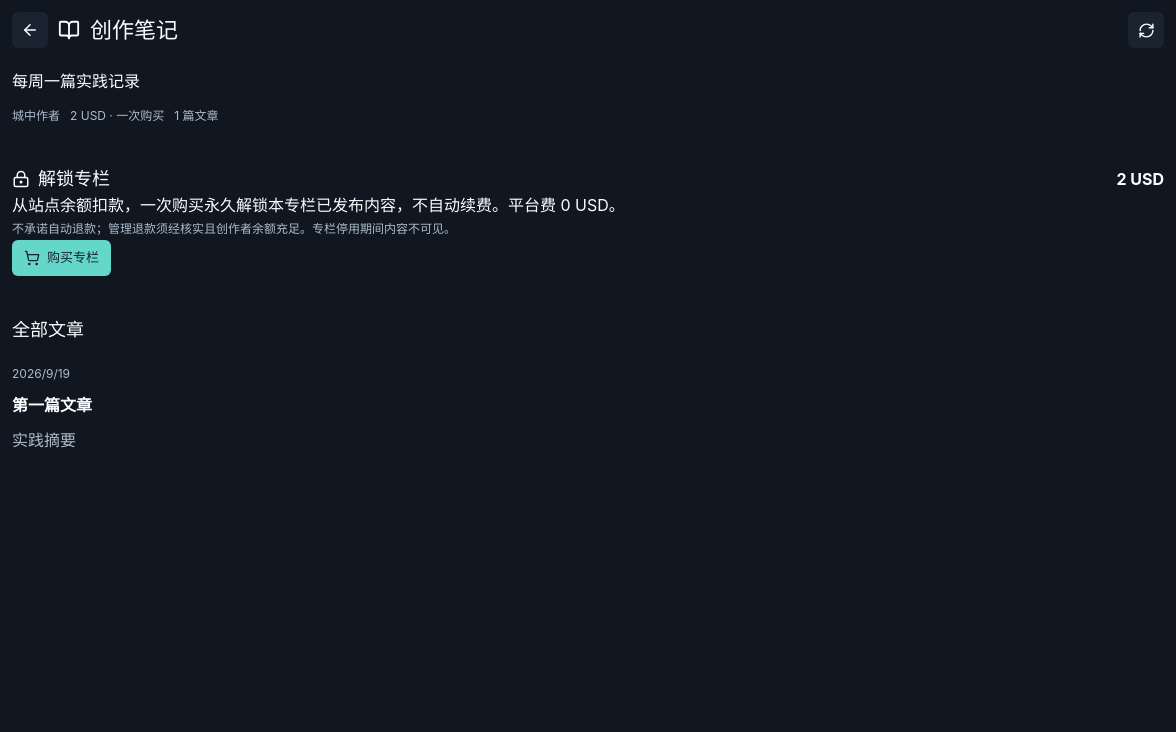
Test: creator columns › confirms the price and reuses an operation id after an uncertain purchase
This screenshot has width=1176, height=732.
Click the button "购买专栏": {"x": 62, "y": 258} [12,240,111,276]
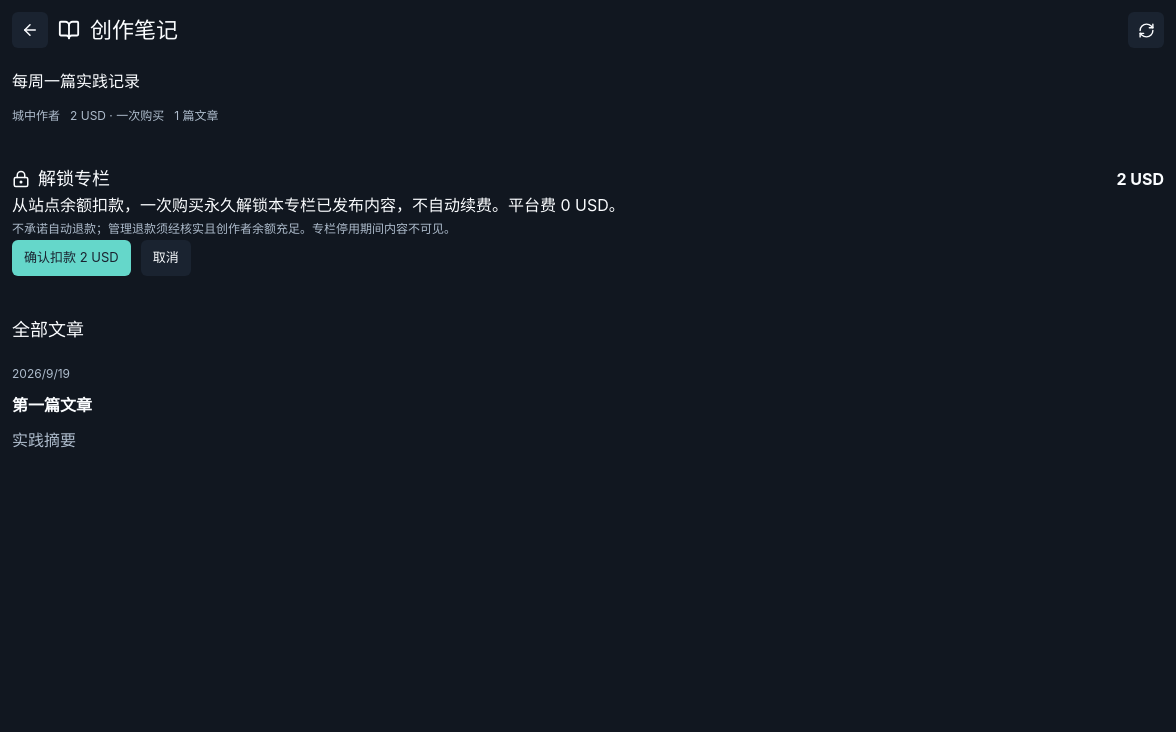
Click the button "确认扣款 2 USD": {"x": 71, "y": 258} [12,240,131,276]
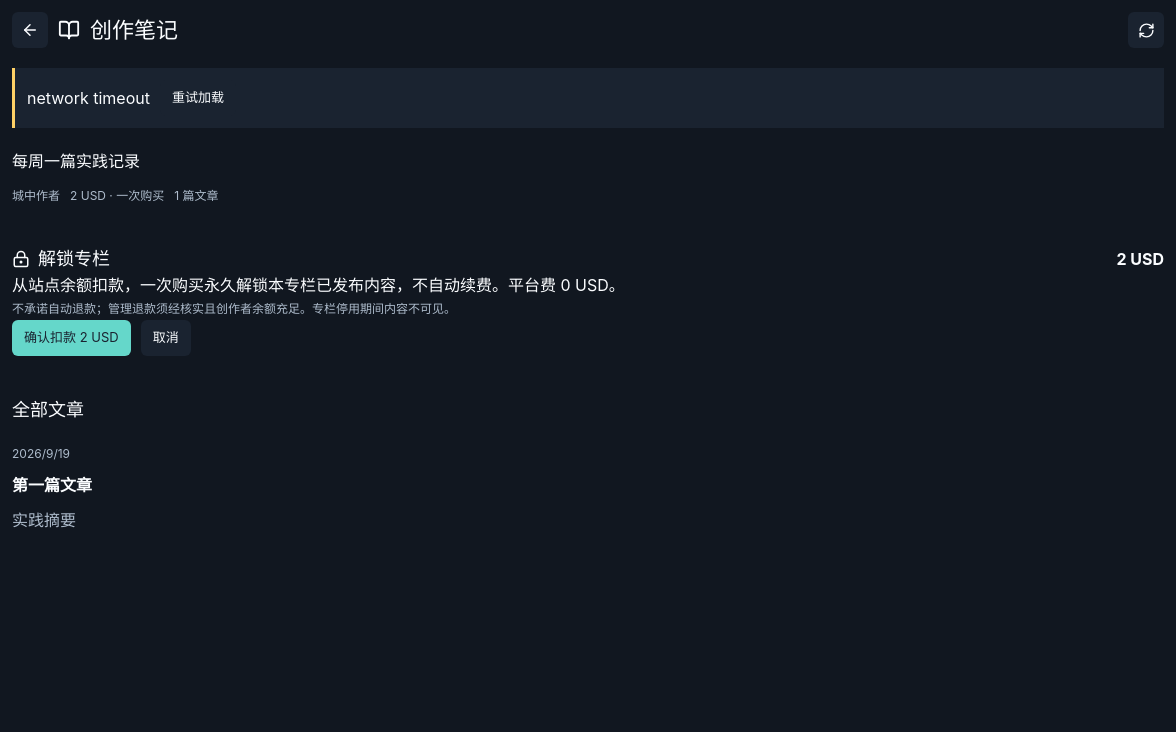
Click the button "确认扣款 2 USD": {"x": 71, "y": 338} [12,320,131,356]
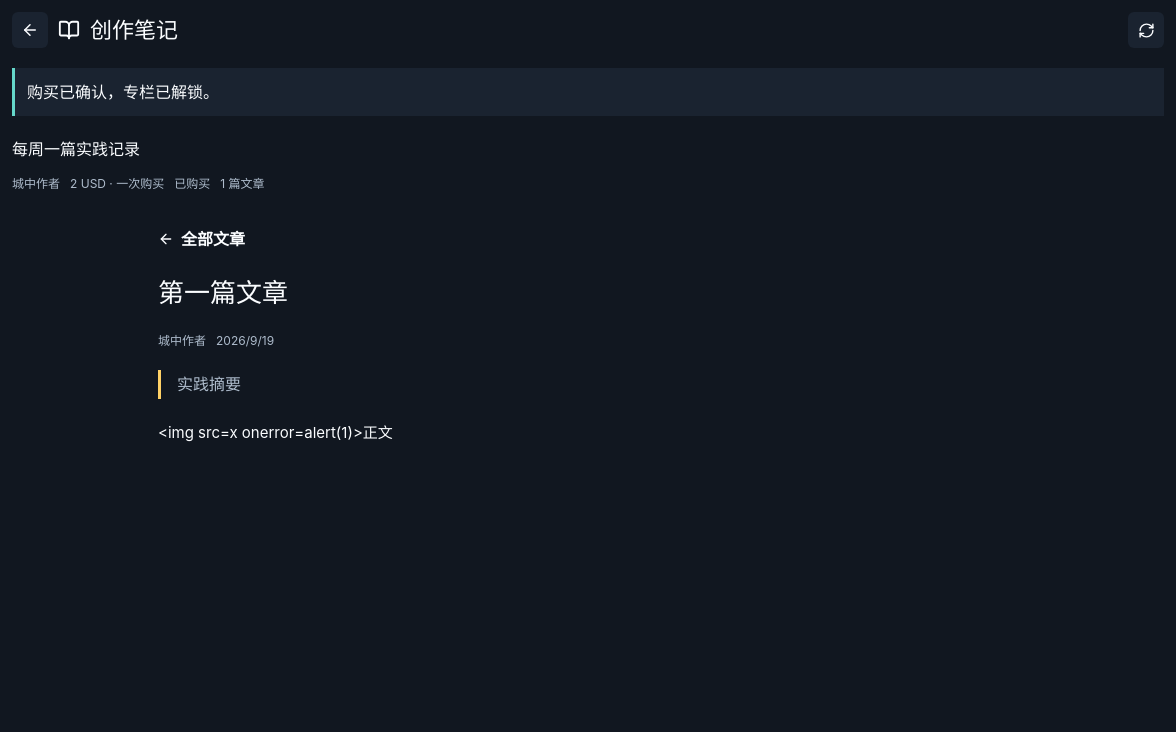
Result: the text "<img src=x onerror=alert(1)>正文" is shown at [158,423,393,442]
